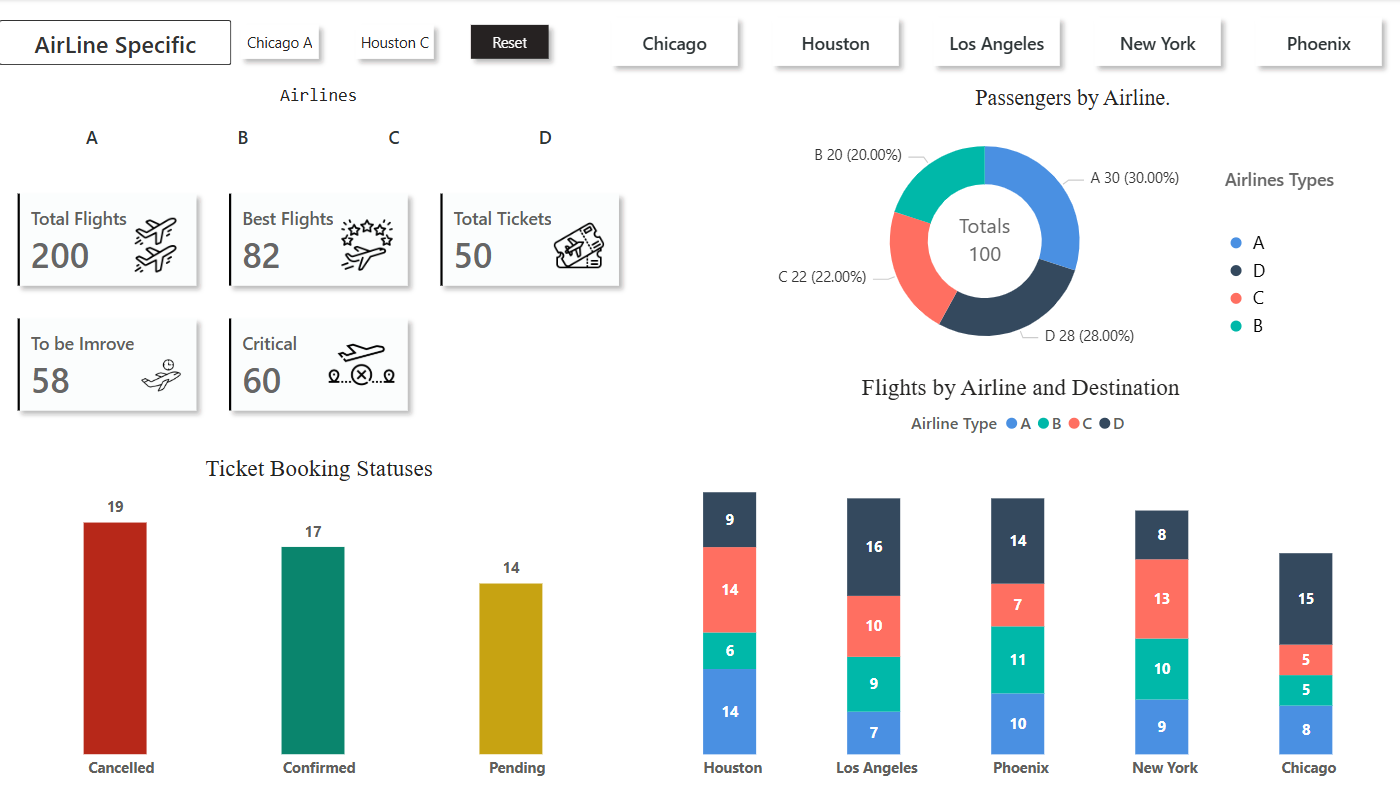

What the dashboard file says about the page in this screenshot:
{"tool":"powerbi","page":{"name":"Airline Specific info","canvas":[1280,720],"ordinal":4},"visuals":[{"type":"DonutChartGMO1461469098694","title":"Passengers by Airline.","fields":{"Category":["Flight_Information.Airline Type"],"Y":["CountNonNull(Passenger_Information.PassengerID)"]},"box":[681.3,78.9,598.7,263.1],"z":0},{"type":"columnChart","title":"Flights by Airline and Destination","fields":{"Category":["Flight_Information.Destination"],"Series":["Flight_Information.Airline Type"],"Y":["CountNonNull(Flight_Information.FlightID)"]},"box":[584.8,342.1,695.2,377.9],"z":1000},{"type":"shape","box":[49.9,10.9,328.4,55.3],"z":2000},{"type":"clusteredColumnChart","title":"Ticket Booking Statuses","fields":{"Category":["Ticket_Information.BookingStatus"],"Y":["CountNonNull(Ticket_Information.FlightID)"]},"box":[0,416,584.6,304.2],"z":3000},{"type":"advancedSlicerVisual","title":"Airlines","fields":{"Values":["Flight_Information.Airline Type"]},"box":[14.5,78.9,554.3,69.9],"z":5000},{"type":"advancedSlicerVisual","title":"Destination","fields":{"Values":["Flight_Information.Destination"]},"box":[542.5,0,737.5,78.9],"z":6000},{"type":"cardVisual","fields":{"Data":["measures (2).Total Flights","measures (2).Best Flights","measures (2).To Be Improved Flights","measures (2).critical Flights","measures (2).Total Tickets"]},"box":[0,160.3,584.6,232.7],"z":6001}]}

Visuals, with their boxes in screenshot pixels (x1, y1, x2, y2), scaled from the page's 1280x720 canvas onto the 1400x788 screenshot:
"Passengers by Airline." DonutChartGMO1461469098694: crop(745, 86, 1399, 374)
"Flights by Airline and Destination" columnChart: crop(640, 374, 1399, 787)
shape: crop(55, 12, 414, 72)
"Ticket Booking Statuses" clusteredColumnChart: crop(0, 455, 639, 787)
"Airlines" advancedSlicerVisual: crop(16, 86, 622, 163)
"Destination" advancedSlicerVisual: crop(593, 0, 1399, 86)
cardVisual - measures (2).Total Flights x measures (2).Best Flights: crop(0, 175, 639, 430)
